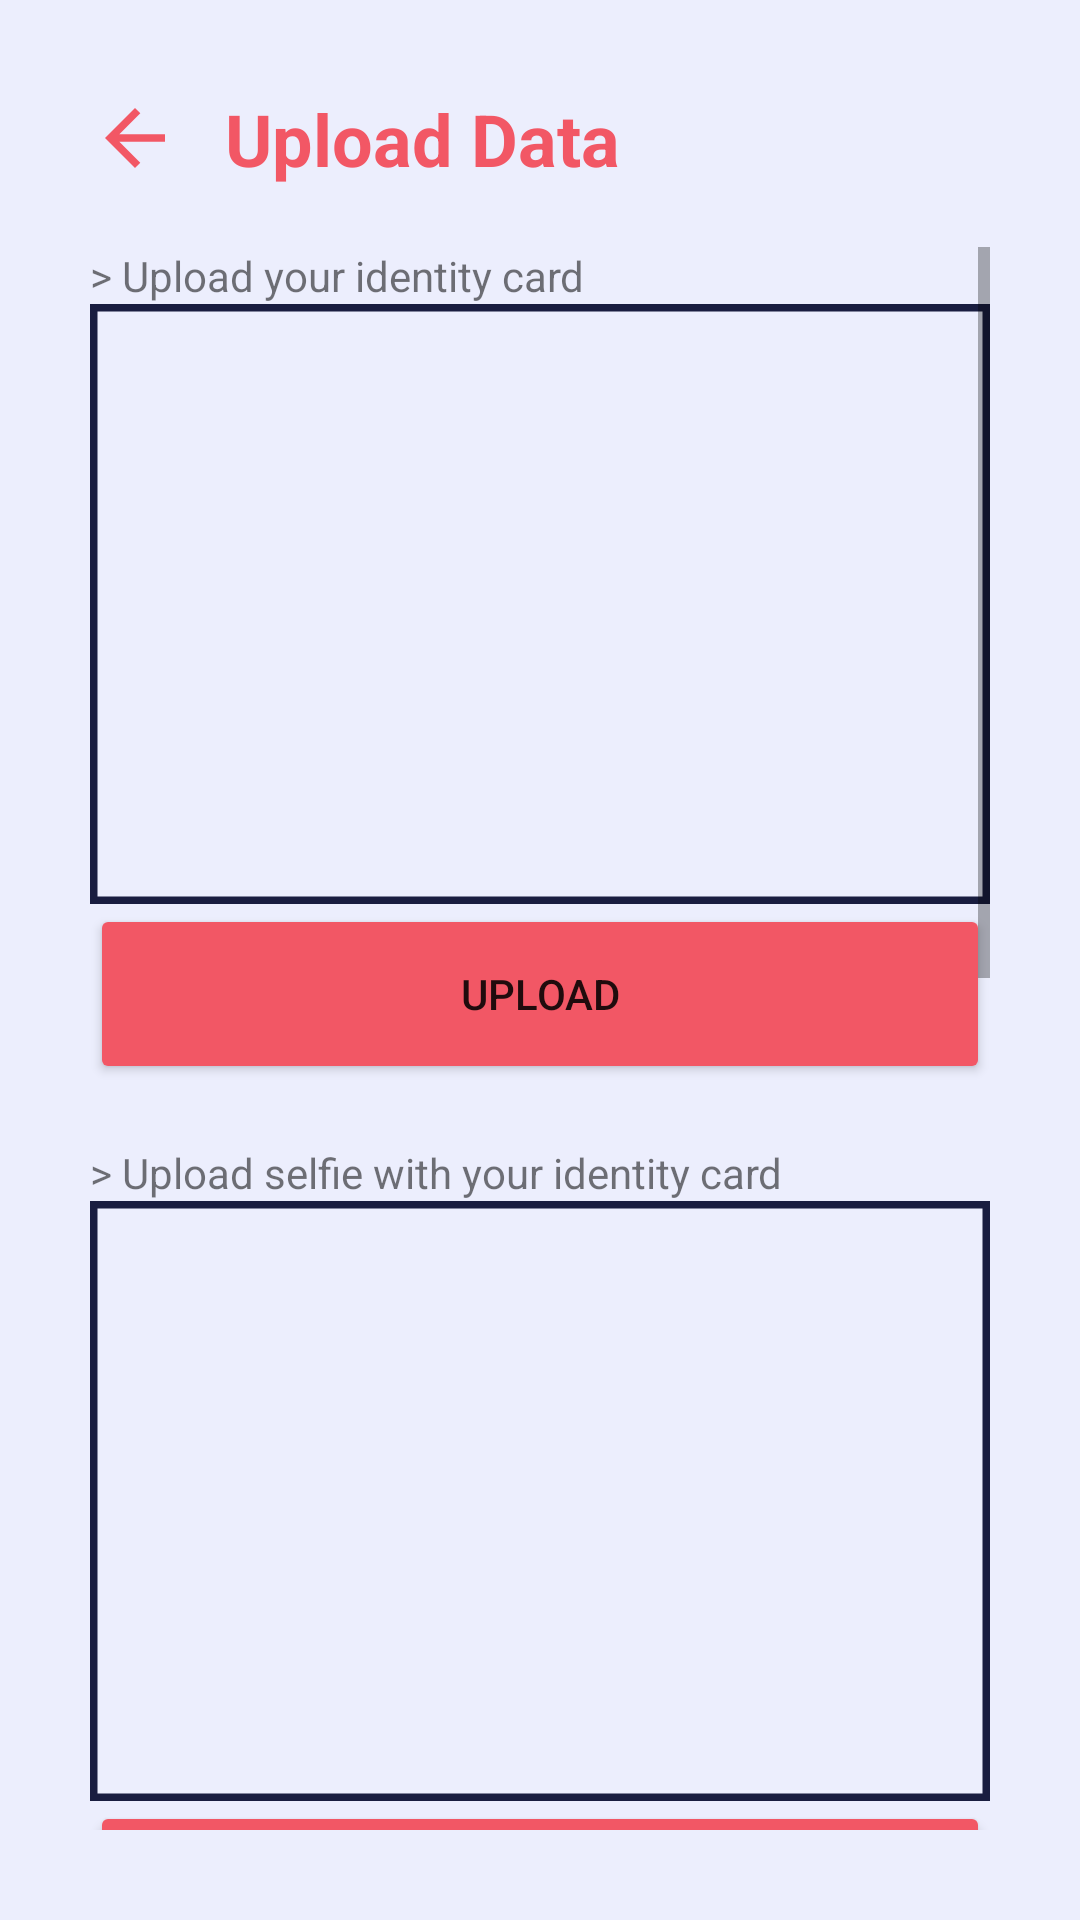

Where to tap for icons on this 1080x1920 app screen, as (x,y):
arrow back: (135,138)
